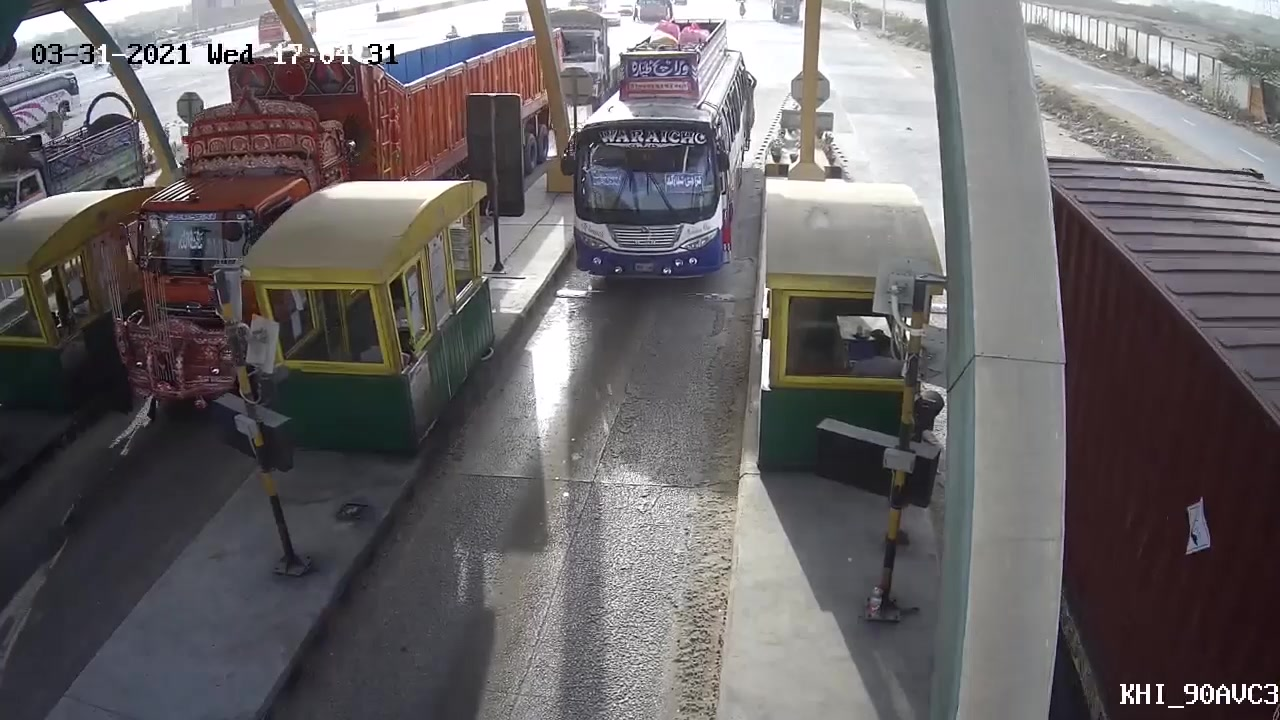F4: (553, 15, 759, 302)
